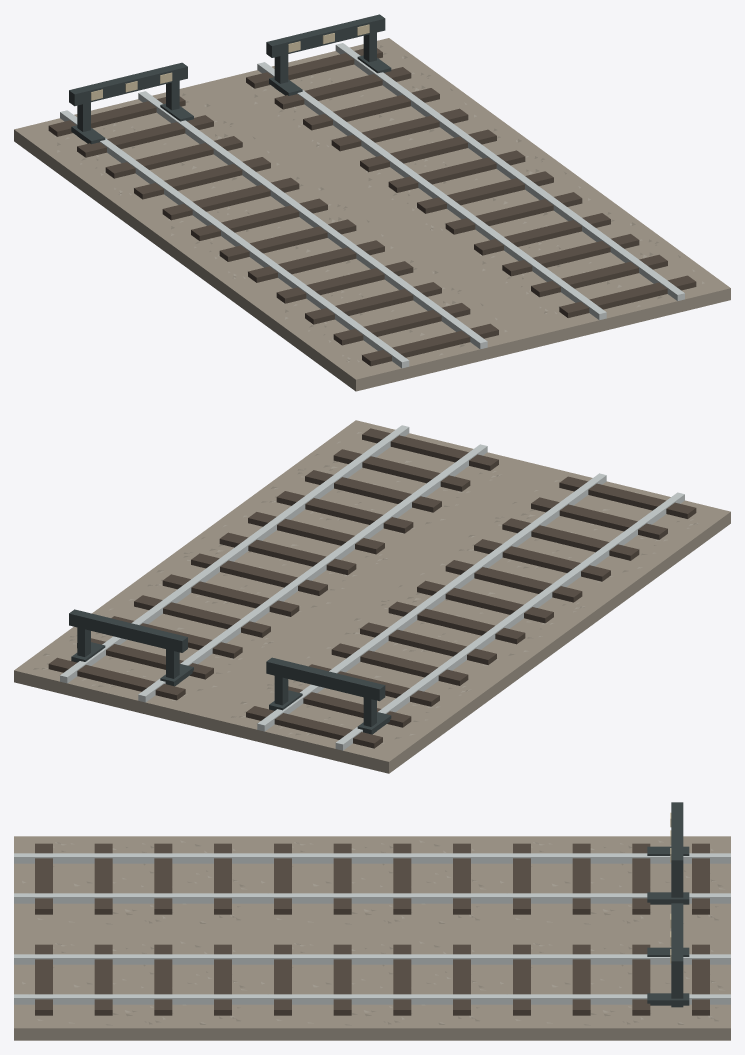
Rendered from rail-track-01.glb.
3 renders of one model, top to bottom at view 1: azimuth 30°, elevation 25°; view 2: azimuth 150°, elevation 25°; view 3: azimuth 270°, elevation 25°, orthographic. The views are drawn at different scales.
Parts seen in each view (by area): view 1: BallastBed_0, BallastBed_1, CentrePlainBallastGap, EndBufferCrossbar.001, EndBufferCrossbar, Sleeper.016, Sleeper.012, Sleeper.003, Sleeper.005, Sleeper.009, Sleeper.018, Sleeper.014 (+29 smaller); view 2: BallastBed_0, BallastBed_1, CentrePlainBallastGap, EndBufferCrossbar, EndBufferCrossbar.001, Sleeper.013, Sleeper.002, Sleeper.008, Sleeper.015, Sleeper.017, Sleeper.019, Sleeper.023 (+29 smaller); view 3: BallastBed_1, BallastBed_0, CentrePlainBallastGap, Rail_0_0_-1, Rail_0_0_1, Rail_0_1_-1, Rail_0_1_1, Rail_1_0_-1, Rail_1_0_1, Rail_1_1_-1, Rail_1_1_1, Rail_0_2_-1 (+31 smaller).
Boxes of the visible parts, <box> form: BallastBed_0: <box>14,86,533,391</box>; BallastBed_1: <box>211,38,730,343</box>; CentrePlainBallastGap: <box>192,81,553,347</box>; EndBufferCrossbar.001: <box>266,14,385,57</box>; EndBufferCrossbar: <box>69,62,187,106</box>; Sleeper.016: <box>445,192,582,234</box>; Sleeper.012: <box>559,275,696,317</box>; Sleeper.003: <box>276,261,413,303</box>; Sleeper.005: <box>219,219,356,261</box>; Sleeper.009: <box>105,136,242,178</box>; Sleeper.018: <box>388,150,525,192</box>; Sleeper.014: <box>502,234,639,276</box>; BallastBed_0: <box>211,468,730,773</box>; BallastBed_1: <box>14,420,533,725</box>; CentrePlainBallastGap: <box>191,463,552,730</box>; EndBufferCrossbar: <box>266,657,385,701</box>; EndBufferCrossbar.001: <box>69,609,187,652</box>; Sleeper.013: <box>333,449,470,491</box>; Sleeper.002: <box>502,518,639,560</box>; Sleeper.008: <box>331,643,468,685</box>; Sleeper.015: <box>276,491,413,533</box>; Sleeper.017: <box>219,532,356,575</box>; Sleeper.019: <box>162,574,299,616</box>; Sleeper.023: <box>48,657,185,700</box>; BallastBed_1: <box>14,937,730,1040</box>; BallastBed_0: <box>14,836,730,927</box>; CentrePlainBallastGap: <box>14,927,730,937</box>; Rail_0_0_-1: <box>14,853,252,863</box>; Rail_0_0_1: <box>14,893,252,903</box>; Rail_0_1_-1: <box>253,853,491,863</box>; Rail_0_1_1: <box>253,893,491,903</box>; Rail_1_0_-1: <box>14,954,252,964</box>; Rail_1_0_1: <box>14,994,252,1004</box>; Rail_1_1_-1: <box>253,954,491,964</box>; Rail_1_1_1: <box>253,994,491,1004</box>; Rail_0_2_-1: <box>492,853,730,863</box>.
Size of the model in its own units: 7.6 by 1.16 by 12.
